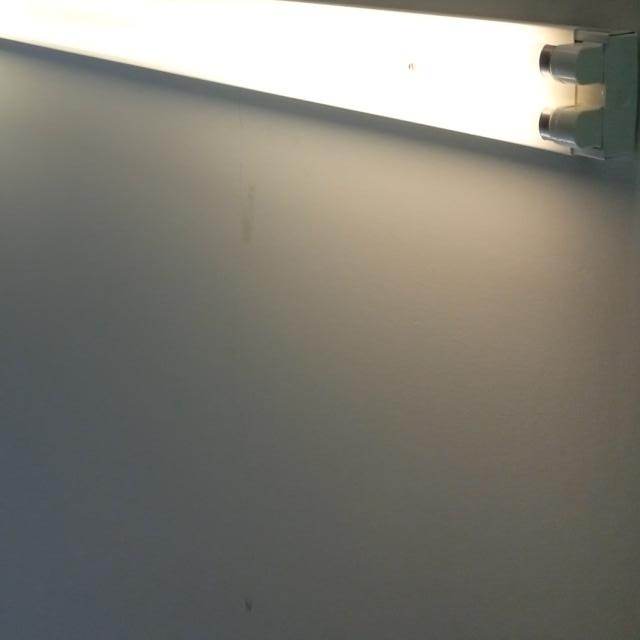fluorescent tube: (0, 0, 640, 183)
